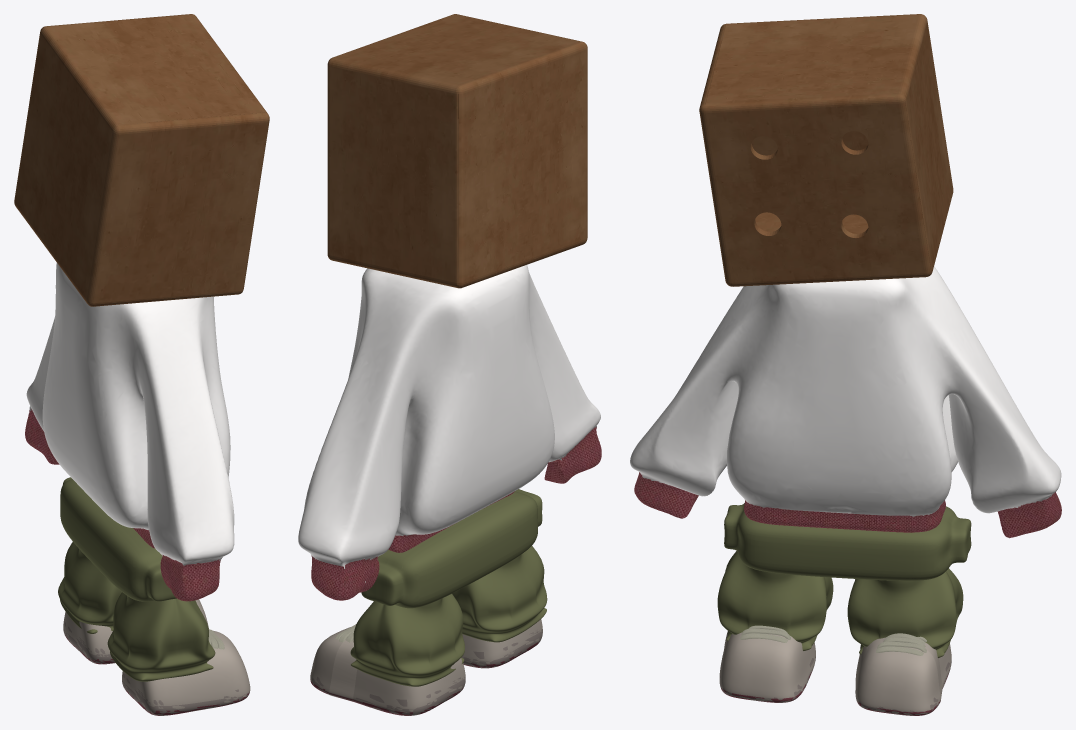
File: blind_box_scene_compressed.glb
The picture shows the model from 3 angles, left to right: view 1: azimuth 30°, elevation 25°; view 2: azimuth 150°, elevation 25°; view 3: azimuth 270°, elevation 25°; orthographic projection.
Visible parts, largest first — view 1: head001, lil_dude010, bottom001, left_shoe002, lil_dude010_1, midsole002, outsole002; view 2: head001, lil_dude010, bottom001, left_shoe002, lil_dude010_1, midsole002, outsole002; view 3: lil_dude010, head001, bottom001, left_shoe002, lil_dude010_1, laces002.
Boxes of the visible parts, box(x1,y1,x2,y2) form: head001: box(14, 14, 269, 306); lil_dude010: box(26, 262, 234, 565); bottom001: box(58, 477, 215, 681); left_shoe002: box(63, 599, 250, 715); lil_dude010_1: box(25, 409, 220, 601); midsole002: box(63, 621, 249, 715); outsole002: box(65, 635, 249, 715); head001: box(327, 14, 587, 288); lil_dude010: box(298, 265, 600, 582); bottom001: box(350, 489, 547, 686); left_shoe002: box(310, 619, 542, 715); lil_dude010_1: box(311, 427, 601, 600); midsole002: box(312, 629, 542, 715); outsole002: box(310, 642, 538, 715); lil_dude010: box(630, 266, 1061, 537); head001: box(699, 14, 953, 286); bottom001: box(717, 503, 971, 657); left_shoe002: box(719, 631, 951, 715); lil_dude010_1: box(634, 472, 1061, 537); laces002: box(740, 625, 926, 655).
Bounding box in the file's own units: 0.0826 × 0.2608 × 0.161.
8 materials, 8 textured.
